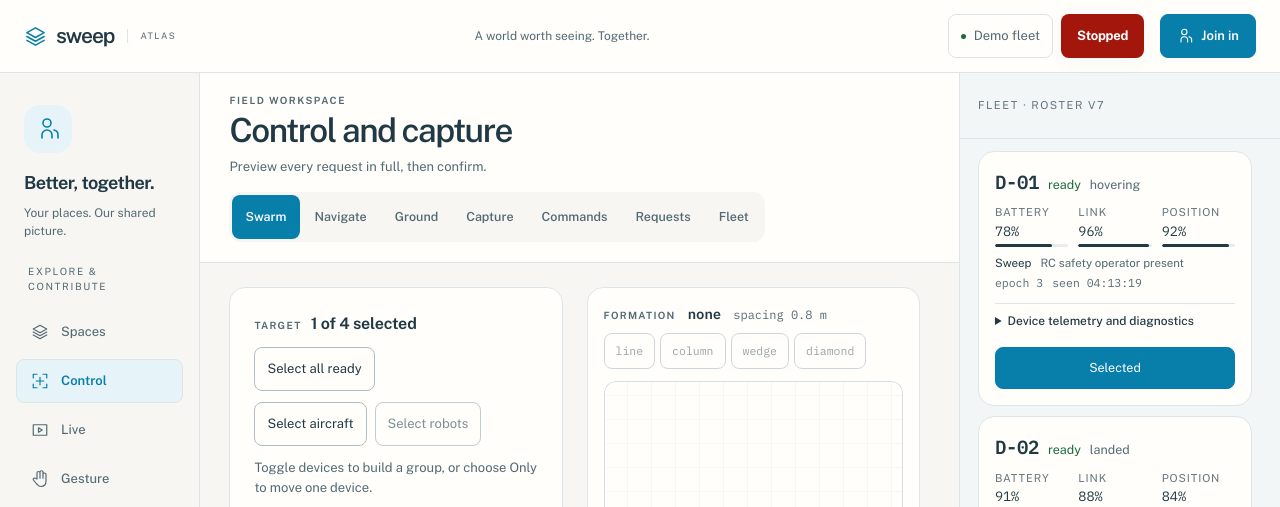
Test case: persistent shell › stop active: the button turns danger, stays pressable, and re-sends estop
expect the button named "Network stop" is enabled: met, box [1061, 14, 1144, 58]
Click the button named "Session detail".
click(1000, 36)  # box [948, 14, 1053, 58]
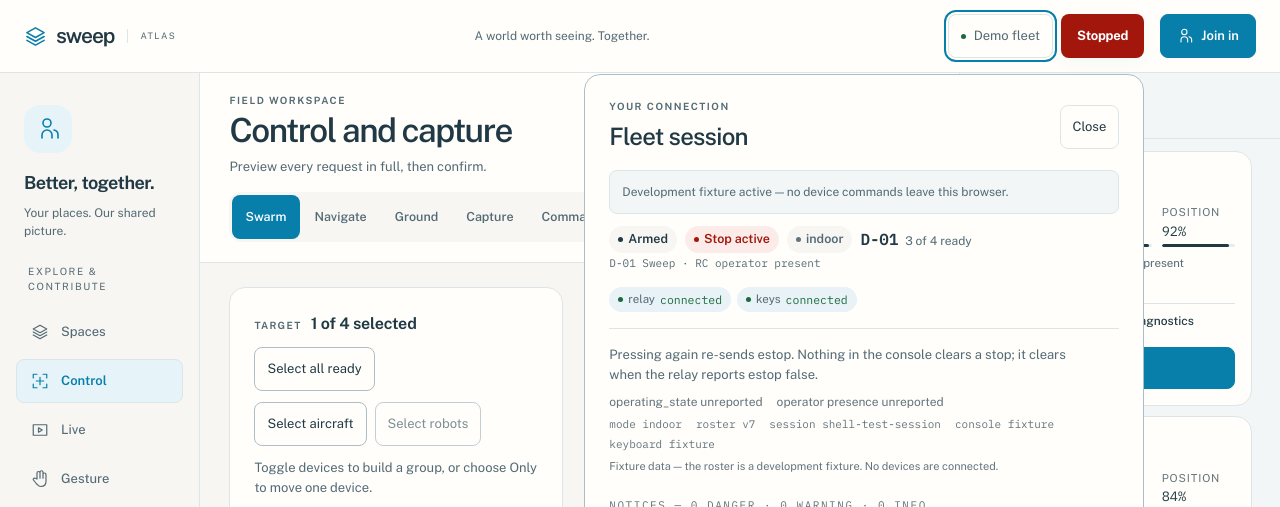
Click the button named "Network stop".
click(1103, 36)  # box [1061, 14, 1144, 58]
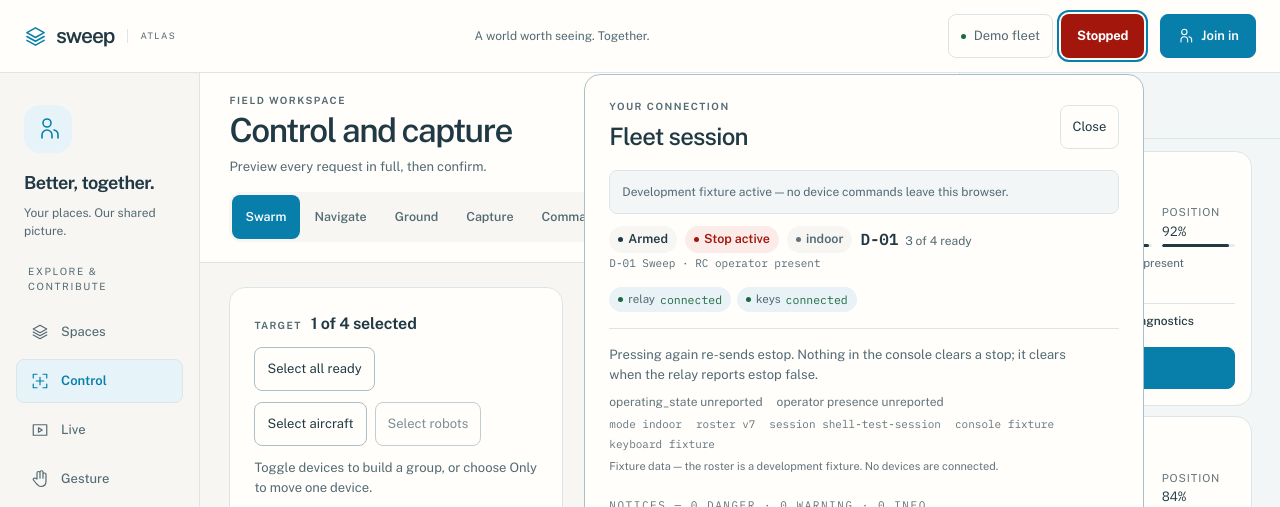
Press Escape
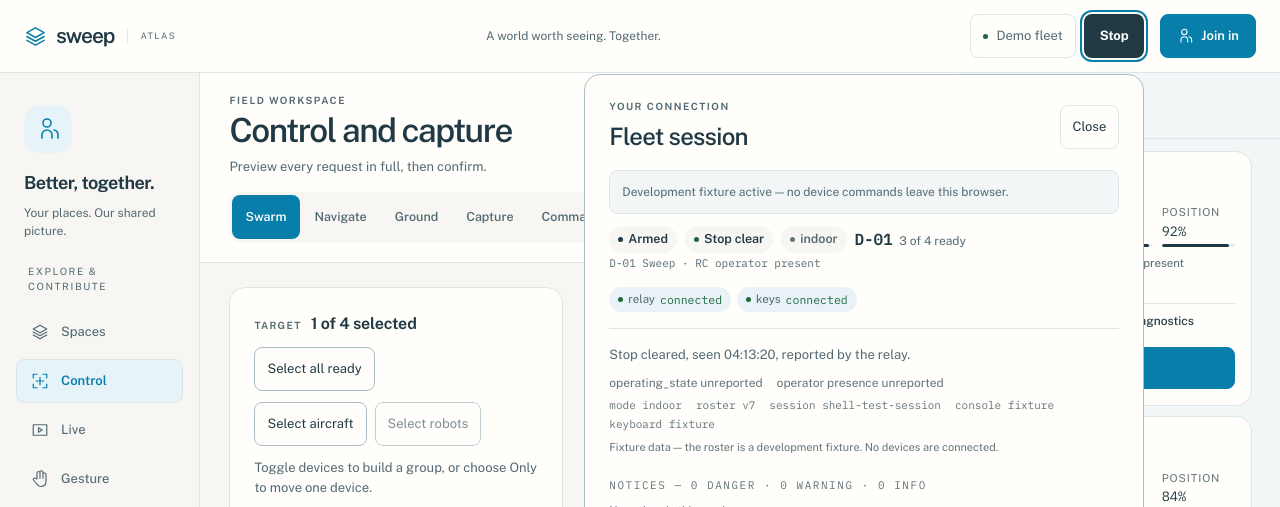
expect the list named "Session state" shows "Stop clear": met, box [704, 231, 764, 246]
